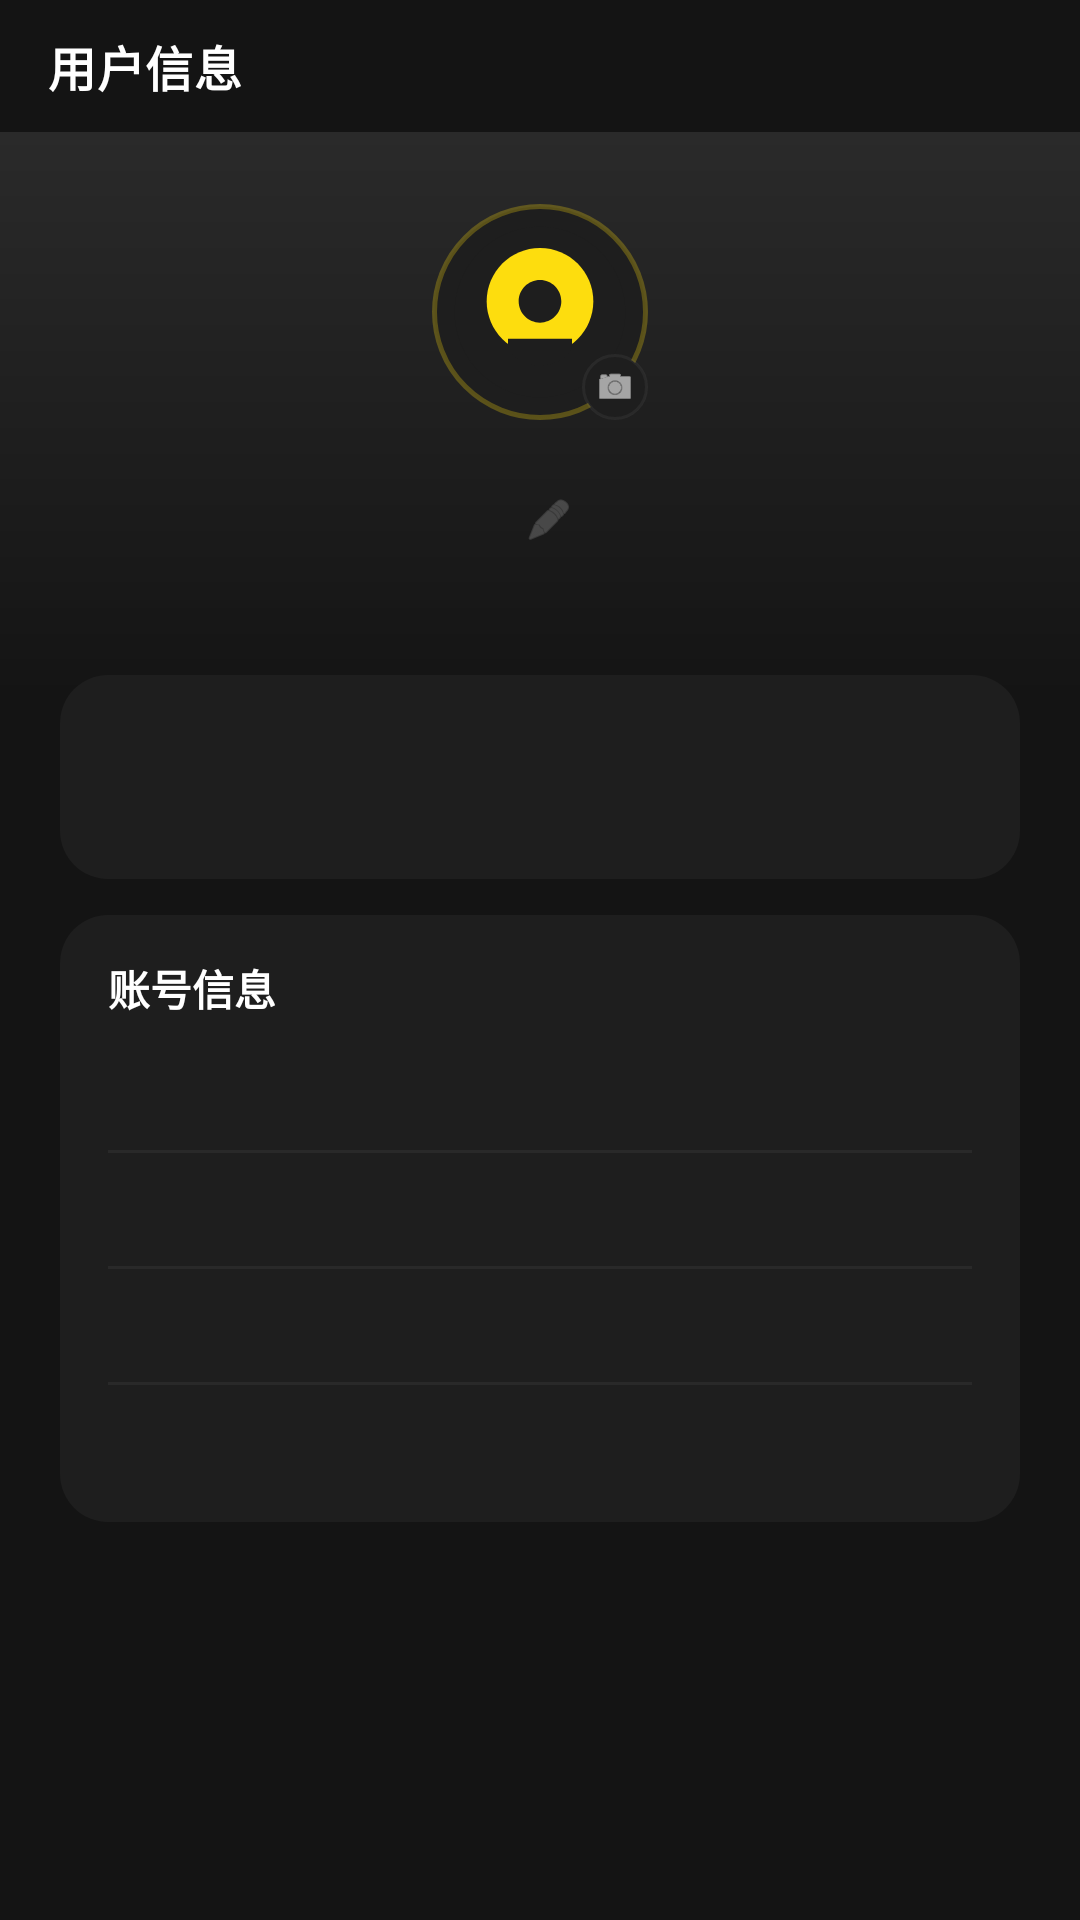

Where icons sit on this 1080*1920 app screen, as rect(x1, y1, x2, y2):
camera: rect(599, 373, 631, 399)
edit: rect(529, 500, 569, 539)
